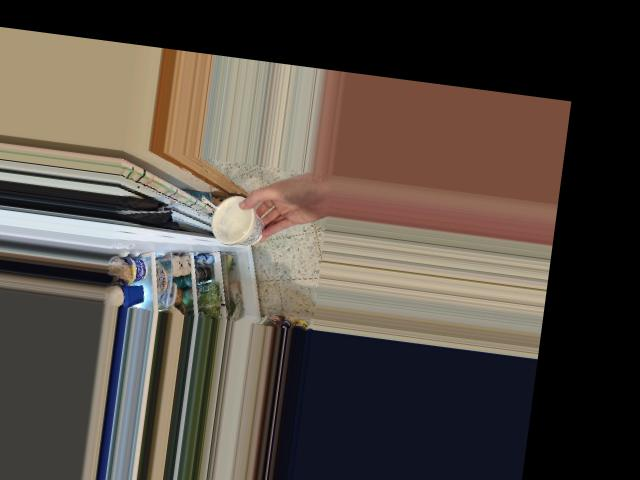cotage: (204, 196, 266, 245)
